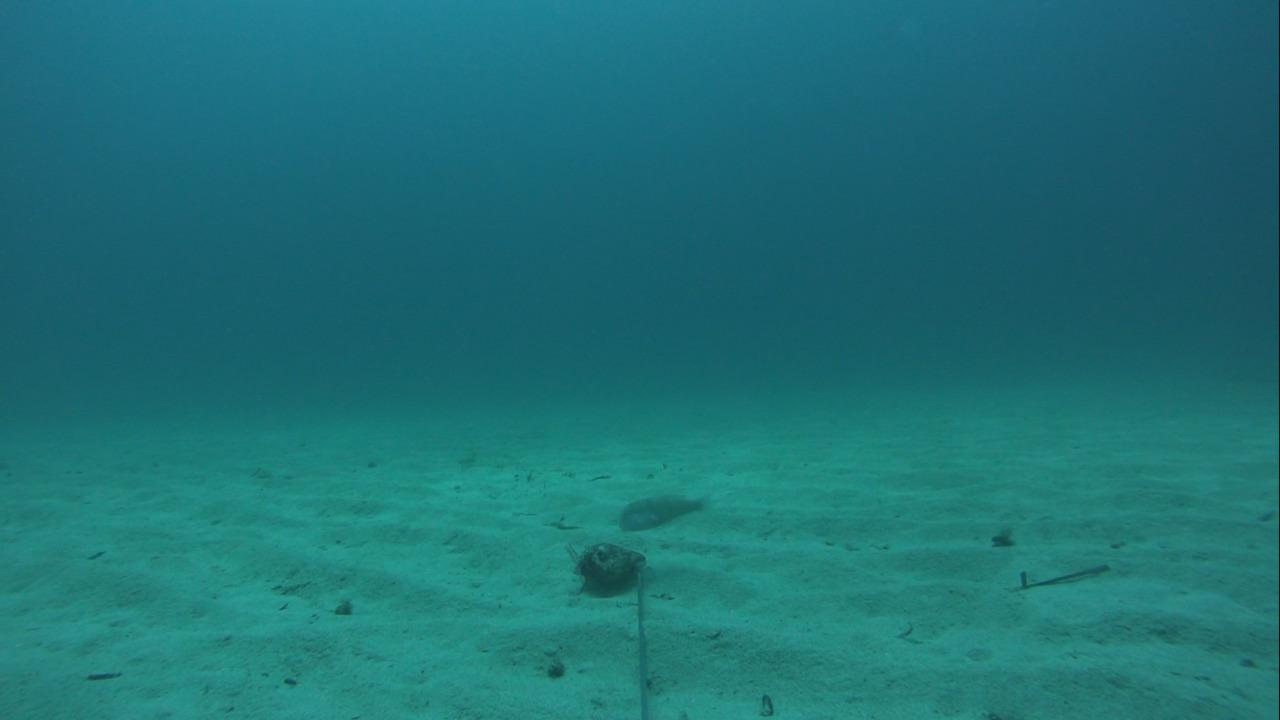raor: (612, 488, 712, 537)
